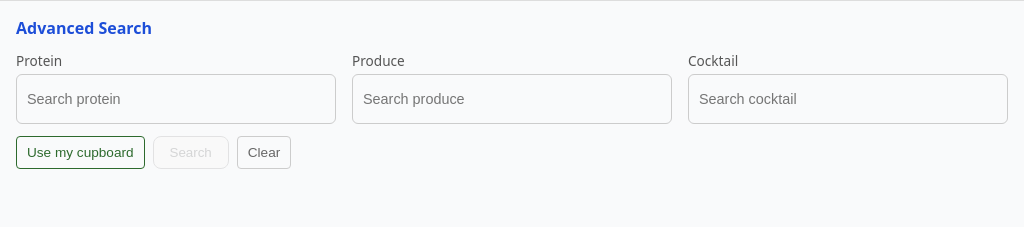
Test case: AdvancedSearch › confirming the "+ Add as new ingredient" affordance creates the ingredient under the category's fallback type and selects it
In the field with id "ingredient-category-1": point(176, 99) [25,90,327,108], type "Duck"
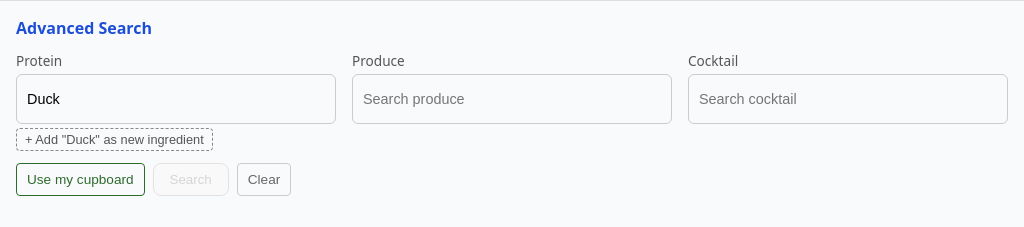
Press Enter in the field with id "ingredient-category-1", box [25,90,327,108]
Click the button with class "add-new-btn": point(114, 140) [16,128,213,151]
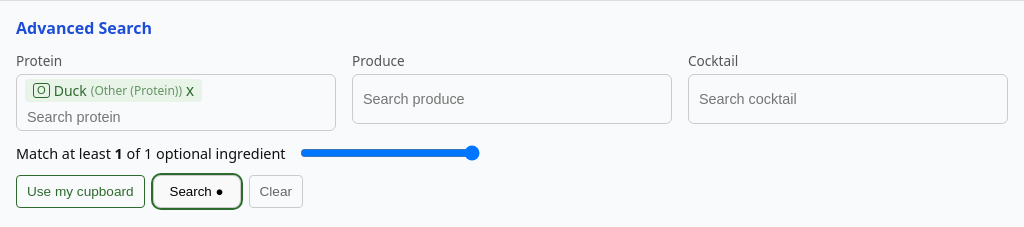
expect the number of elements with class "ingredient-tag" is 1: met, box [25,79,202,102]
expect the element with class "ingredient-tag" shows "Duck": met, box [54,81,87,100]
expect the element with class "ingredient-tag" shows "Other (Protein)": met, box [91,82,182,99]
